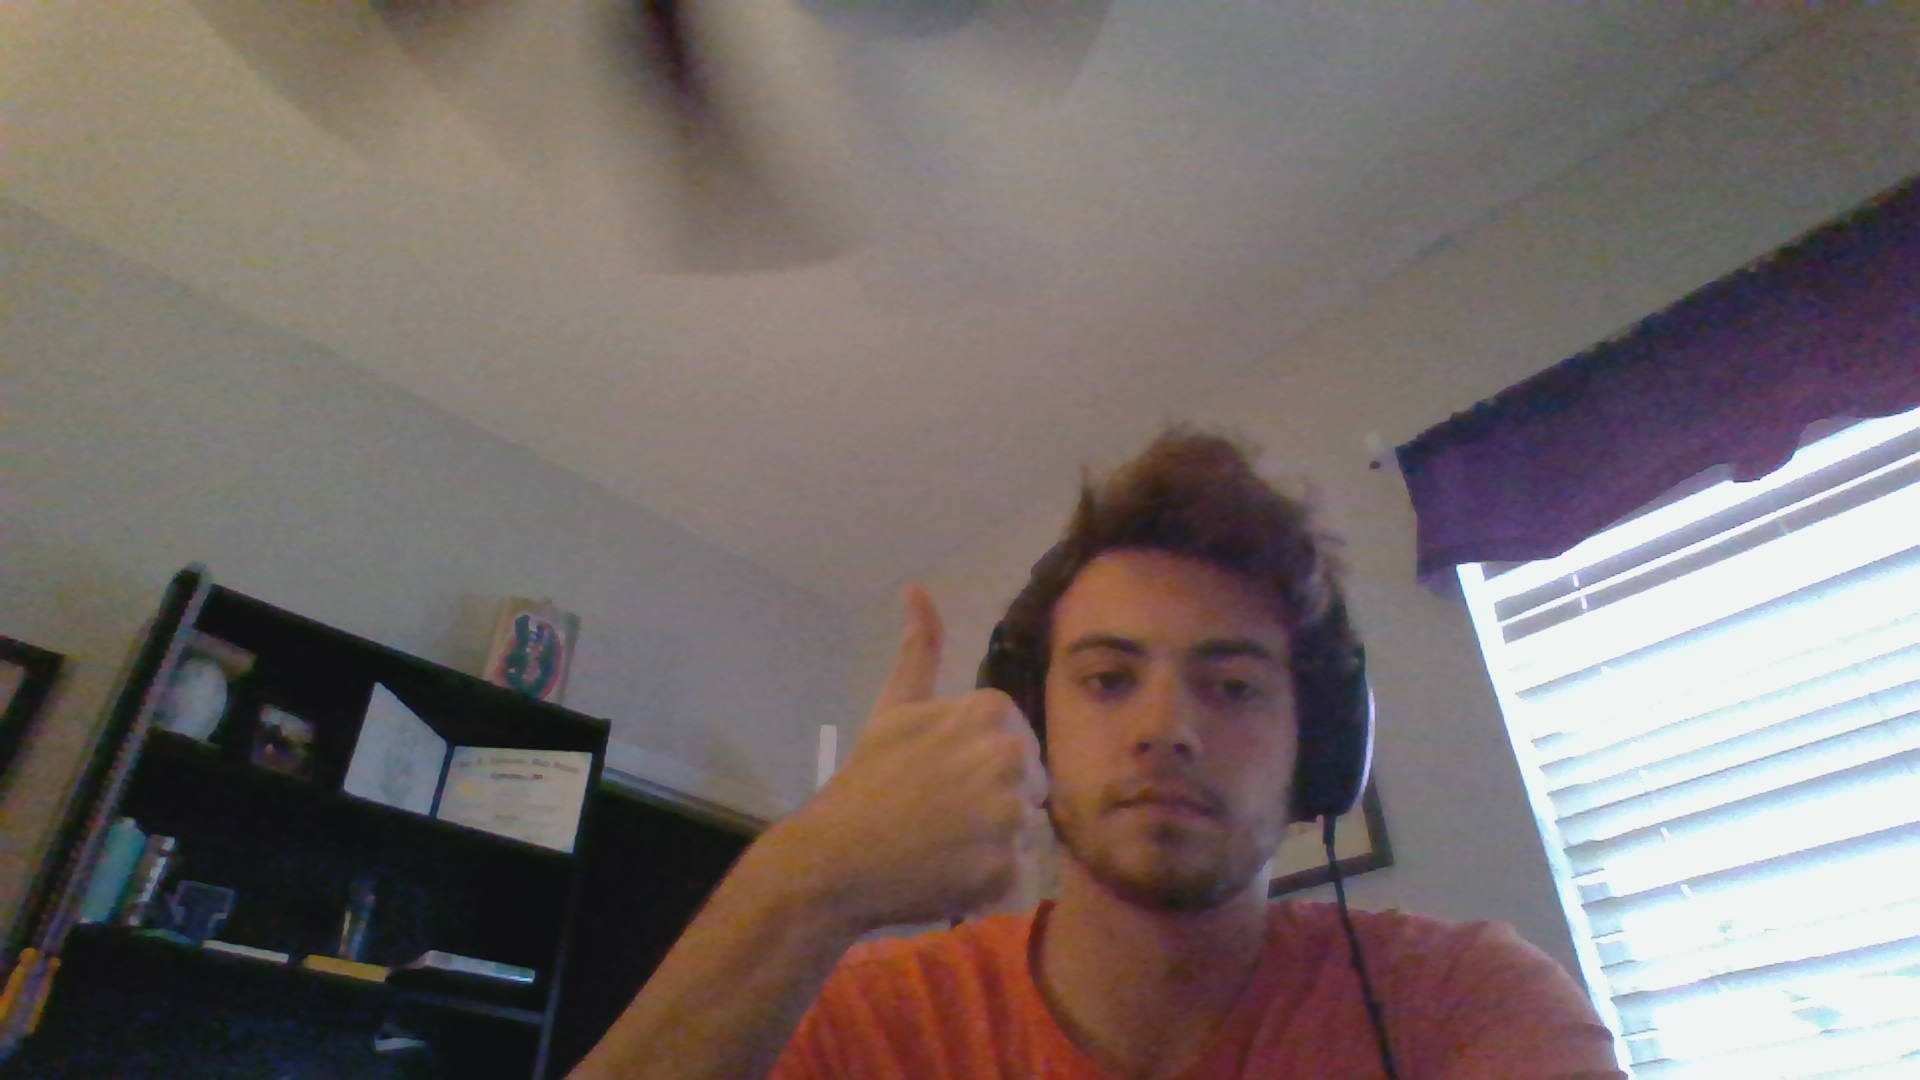Right Thumb Up: (764, 575, 1059, 938)
